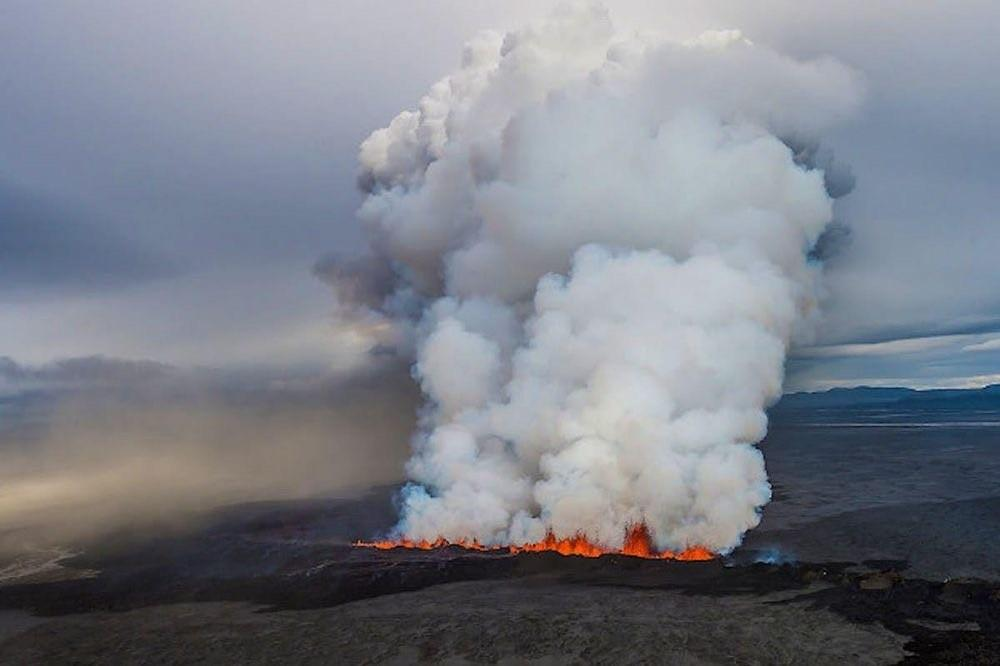fire: (350, 521, 722, 578)
smoke: (296, 0, 824, 538)
